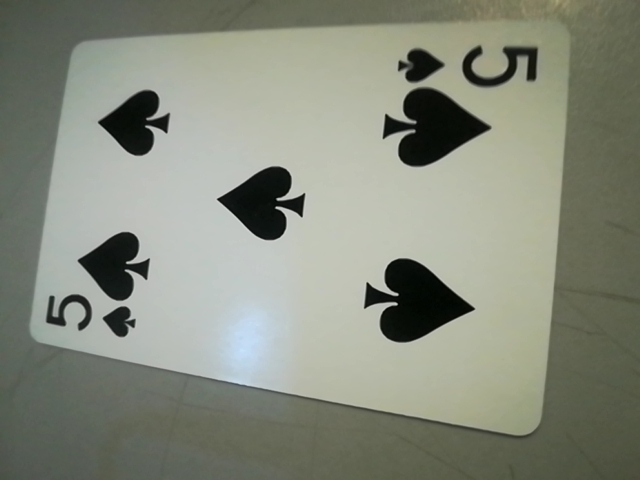ht 5: (386, 40, 548, 95)
